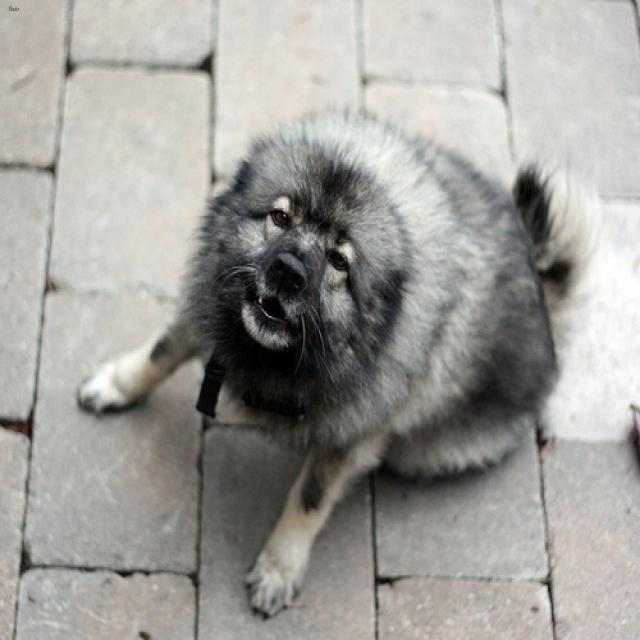dog-keeshond: (60, 89, 617, 634)
